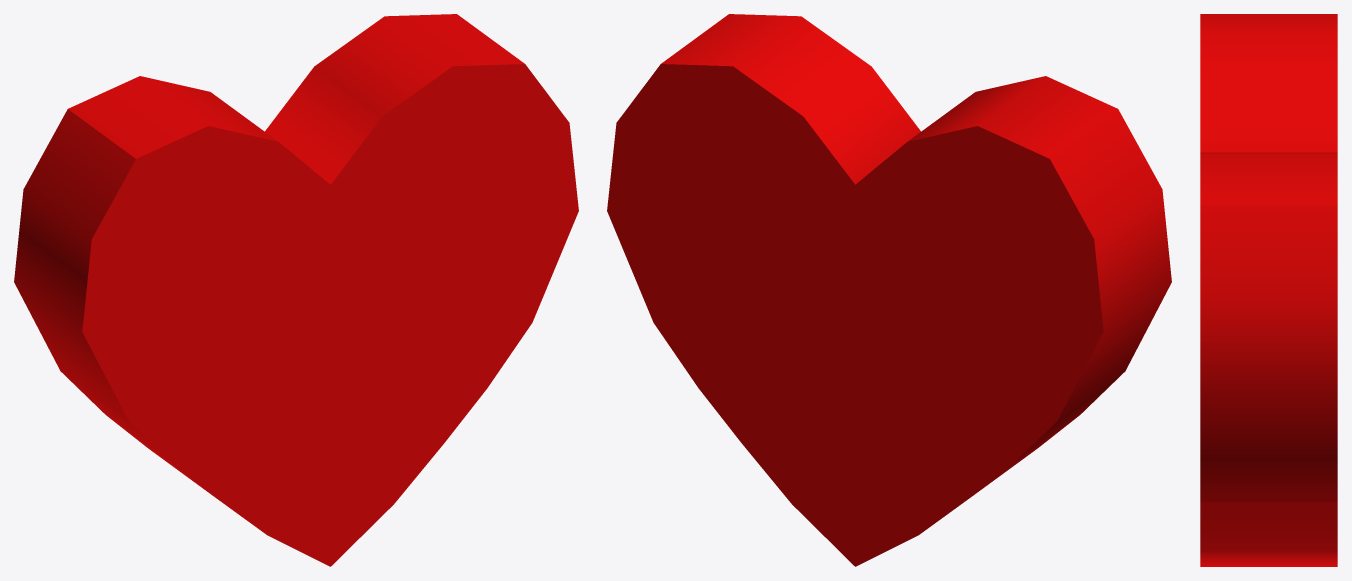
Rendered from heart.fbx.
The picture shows the model from 3 angles, left to right: view 1: azimuth 30°, elevation 25°; view 2: azimuth 150°, elevation 25°; view 3: azimuth 270°, elevation 25°; orthographic projection.
Visible parts, largest first — view 1: heart_powerup; view 2: heart_powerup; view 3: heart_powerup.
Part boxes in pixels (x1,y1,x2,y2): heart_powerup: (14,14,578,566); heart_powerup: (607,14,1171,566); heart_powerup: (1200,14,1337,566).
Size of the model in its own units: 8.4 by 7.61 by 2.
